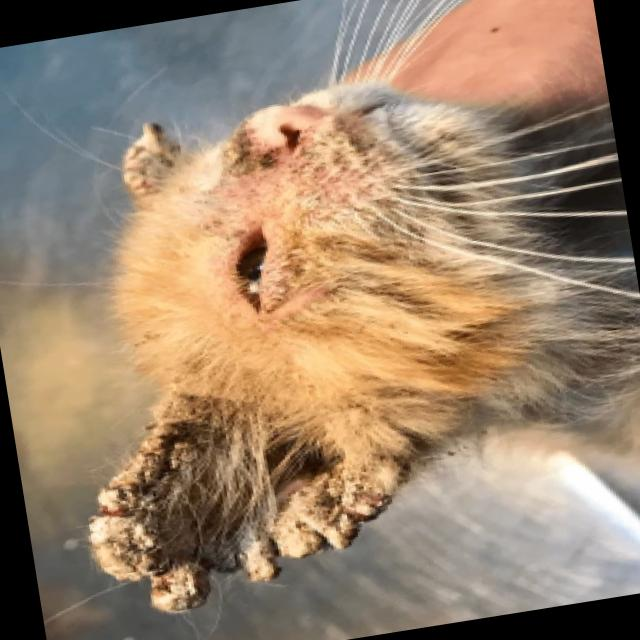Mange: (86, 417, 402, 613), (107, 104, 190, 200), (224, 168, 302, 215), (216, 118, 266, 180), (262, 230, 292, 302), (311, 164, 358, 202)
